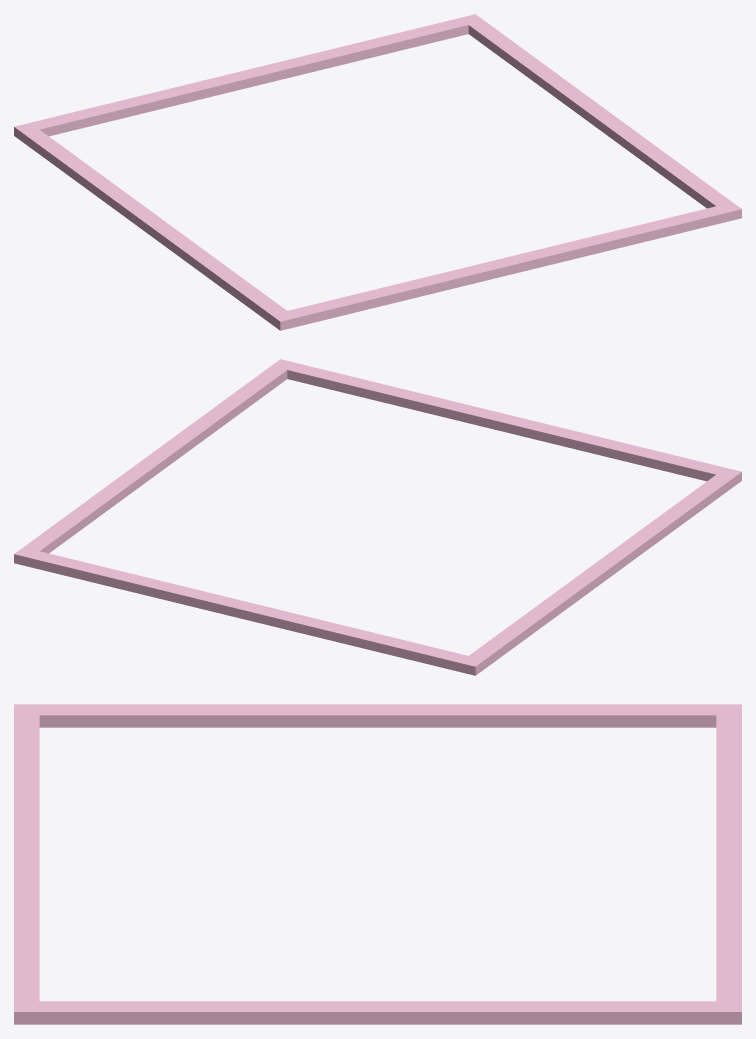
The model's file is frame-skin-4.glb.
3 renders of one model, top to bottom at view 1: azimuth 30°, elevation 25°; view 2: azimuth 150°, elevation 25°; view 3: azimuth 270°, elevation 25°, orthographic. The views are drawn at different scales.
Parts seen in each view (by area): view 1: frame-skin-4; view 2: frame-skin-4; view 3: frame-skin-4.
Boxes of the visible parts, x1=… form: frame-skin-4: x1=14, y1=14, x2=741, y2=330; frame-skin-4: x1=14, y1=359, x2=741, y2=675; frame-skin-4: x1=14, y1=704, x2=741, y2=1024.
Bounding box in the file's own units: 17 × 0.32 × 17.
1 material, 1 textured.
